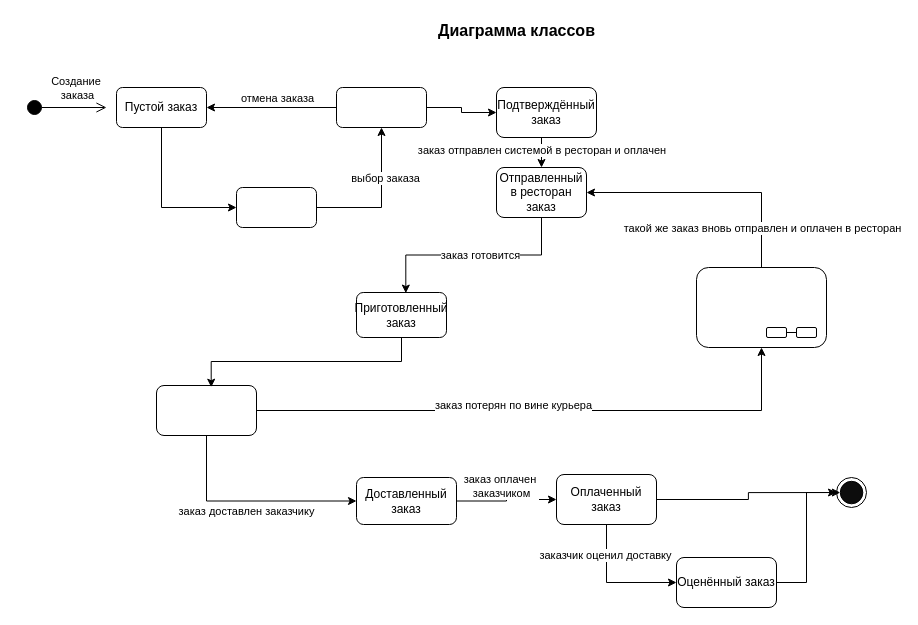
The diagram is 918 pixels wide and 625 high, and some of its shapes have lost their labels. The shapes that lost their labels are listed below. From the top down, each one's box as (x1, y1, x2, y2) in pixels, then its label:
(336, 86, 426, 128): Готовый заказ
(236, 186, 316, 228): Выбор ресторана
(696, 266, 826, 348): Заново сгенерированный заказ
(156, 384, 256, 436): Заказ у курьера
